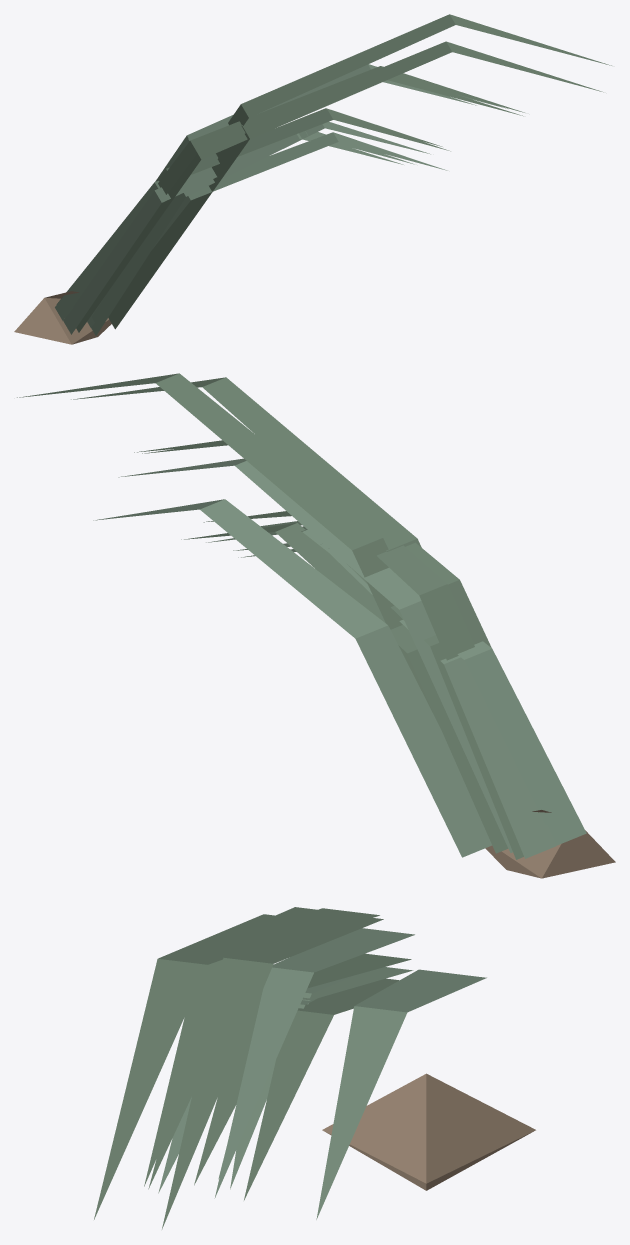
The model's file is shui.kucao@subadult__winter.glb.
3 renders of one model, top to bottom at view 1: azimuth 30°, elevation 25°; view 2: azimuth 150°, elevation 25°; view 3: azimuth 270°, elevation 25°, orthographic. The views are drawn at different scales.
Visible parts, largest first — view 1: shui.kucao@subadult__winter; view 2: shui.kucao@subadult__winter; view 3: shui.kucao@subadult__winter.
Part boxes in pixels (x1,y1,x2,y2): shui.kucao@subadult__winter: [14, 14, 611, 344]; shui.kucao@subadult__winter: [17, 373, 615, 878]; shui.kucao@subadult__winter: [94, 907, 535, 1229].
Bounding box in the file's own units: 0.731 × 0.3594 × 0.2617.
